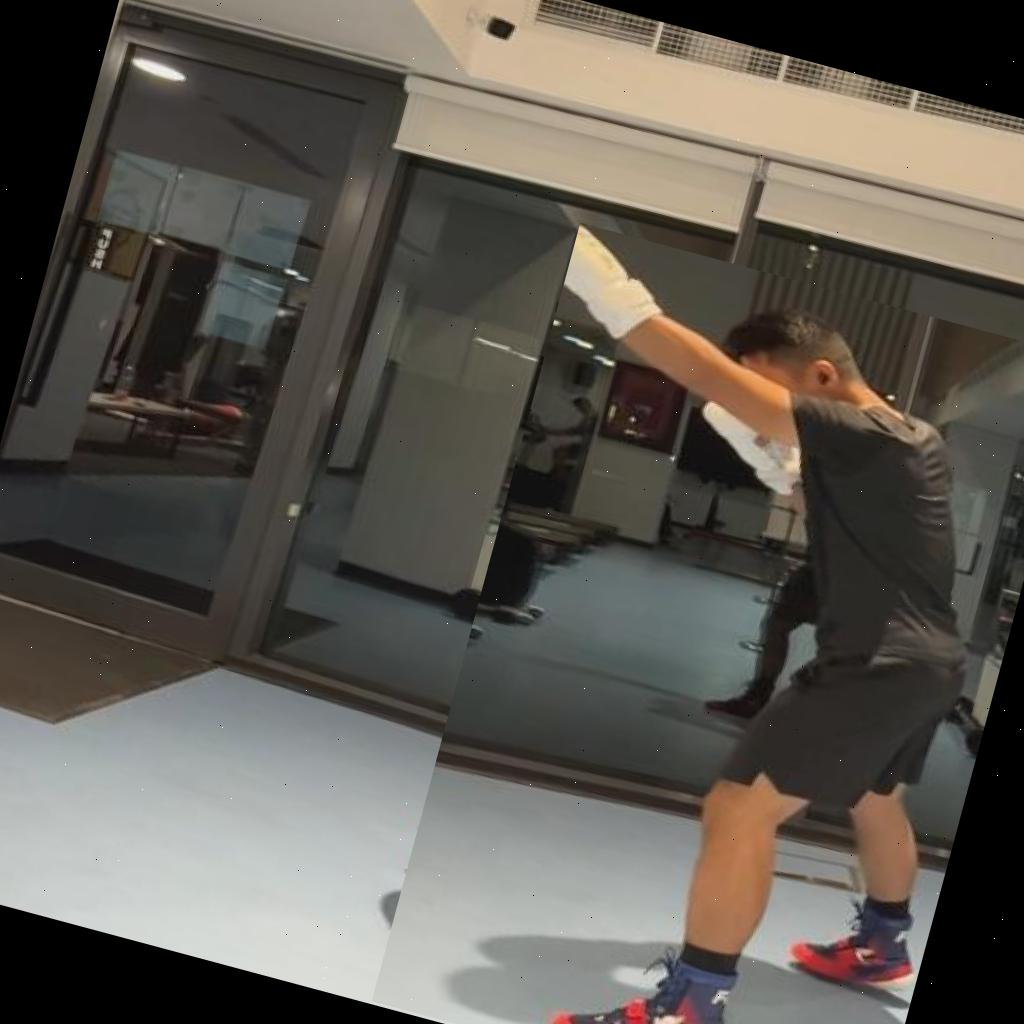jab: (371, 223, 1024, 1024)
